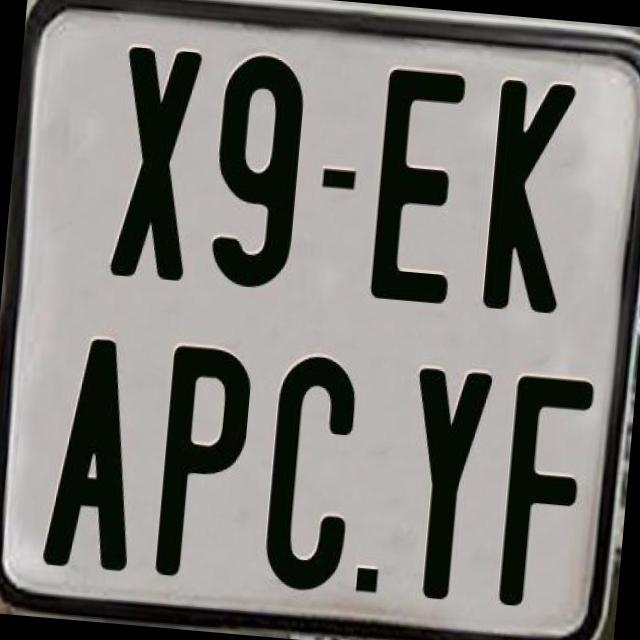9: (204, 50, 304, 288)
A: (40, 331, 146, 568)
C: (262, 352, 366, 598)
E: (369, 67, 474, 308)
F: (494, 370, 594, 616)
K: (478, 75, 576, 314)
P: (153, 344, 261, 591)
X: (107, 46, 210, 291)
Y: (394, 365, 492, 605)
